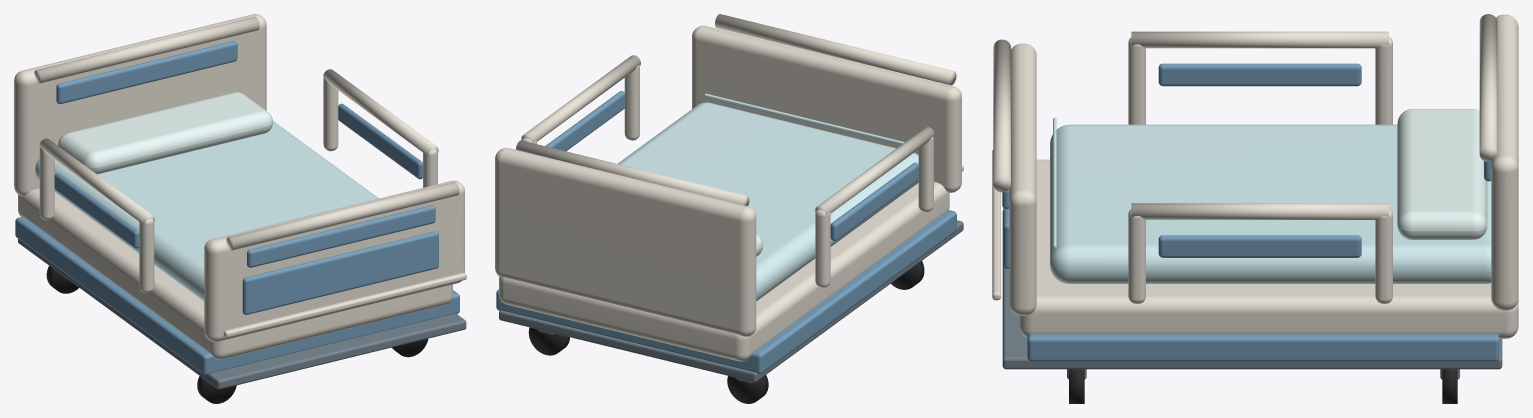
Rendered from hospital_bed_unity.glb.
The picture shows the model from 3 angles, left to right: view 1: azimuth 30°, elevation 25°; view 2: azimuth 150°, elevation 25°; view 3: azimuth 270°, elevation 25°; orthographic projection. The views are drawn at different scales.
Parts seen in each view (by area): view 1: thick pale blue mattress, head board outer panel, lower off-white bed base, foot board outer panel, pillow, dark blue under-frame, foot board blue inset, thin metal support rail, head board handle opening shadow, foot board top opening shadow, foot board top rounded bar, head board top rounded bar (+11 smaller); view 2: head board outer panel, thick pale blue mattress, foot board outer panel, lower off-white bed base, dark blue under-frame, thin metal support rail, foot board top rounded bar, head board top rounded bar, right side rail rounded top bar, left side rail rounded top bar, left side rail inner blue shadow, right side rail inner blue shadow (+7 smaller); view 3: thick pale blue mattress, lower off-white bed base, dark blue under-frame, pillow, head board outer panel, foot board outer panel, thin metal support rail, left side rail inner blue shadow, right side rail inner blue shadow, left side rail rounded top bar, right side rail rounded top bar, head board top rounded bar (+9 smaller).
Boxes of the visible parts, x1,y1,x2,y2 form: thick pale blue mattress: [35, 121, 378, 300]; head board outer panel: [14, 14, 266, 196]; lower off-white bed base: [18, 188, 452, 359]; foot board outer panel: [204, 180, 464, 341]; pillow: [58, 92, 272, 174]; dark blue under-frame: [15, 216, 459, 374]; foot board blue inset: [242, 231, 438, 314]; thin metal support rail: [18, 239, 466, 389]; head board handle opening shadow: [56, 41, 237, 104]; foot board top opening shadow: [247, 205, 435, 267]; foot board top rounded bar: [226, 181, 459, 250]; head board top rounded bar: [34, 16, 259, 83]; head board outer panel: [495, 147, 756, 336]; thick pale blue mattress: [617, 102, 918, 300]; foot board outer panel: [692, 25, 961, 192]; lower off-white bed base: [499, 182, 949, 361]; dark blue under-frame: [496, 210, 956, 373]; thin metal support rail: [499, 220, 963, 382]; foot board top rounded bar: [715, 14, 956, 85]; head board top rounded bar: [516, 140, 749, 206]; right side rail rounded top bar: [521, 55, 640, 142]; left side rail rounded top bar: [815, 127, 934, 215]; left side rail inner blue shadow: [830, 162, 918, 240]; right side rail inner blue shadow: [545, 91, 625, 151]; thick pale blue mattress: [1050, 124, 1491, 283]; lower off-white bed base: [1019, 159, 1518, 338]; dark blue under-frame: [1027, 333, 1499, 361]; pillow: [1397, 109, 1487, 239]; head board outer panel: [1491, 14, 1518, 310]; foot board outer panel: [1009, 43, 1036, 315]; thin metal support rail: [1002, 210, 1502, 369]; left side rail inner blue shadow: [1158, 63, 1361, 86]; right side rail inner blue shadow: [1158, 235, 1361, 257]; left side rail rounded top bar: [1131, 31, 1388, 48]; right side rail rounded top bar: [1131, 203, 1388, 219]; head board top rounded bar: [1479, 14, 1497, 161].
Size of the model in its own units: 1.74 by 1.19 by 2.16.
